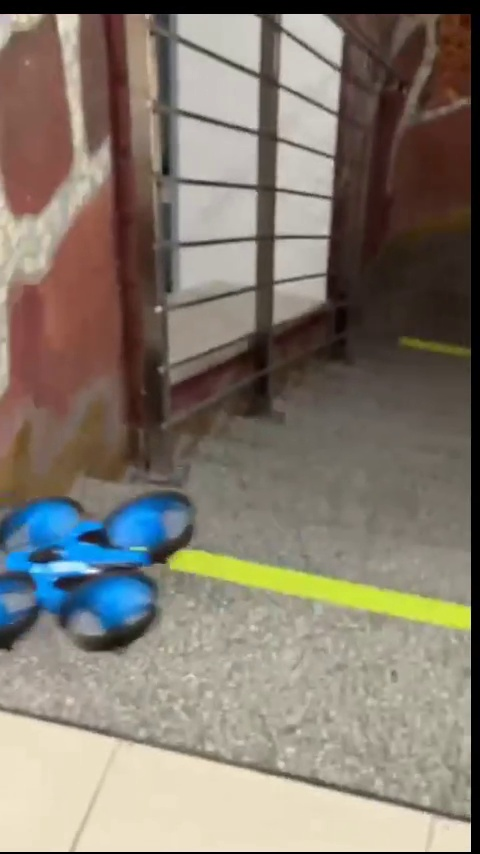drone: (0, 496, 218, 658)
